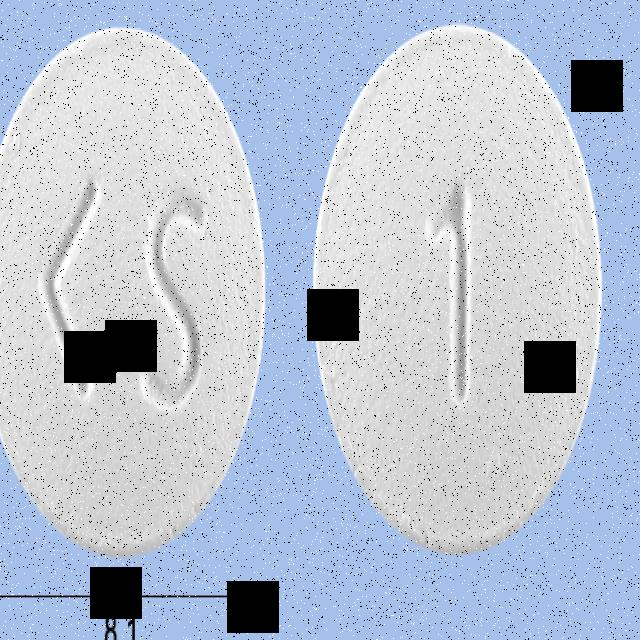Levofxa: (313, 21, 602, 554), (0, 21, 268, 560)
